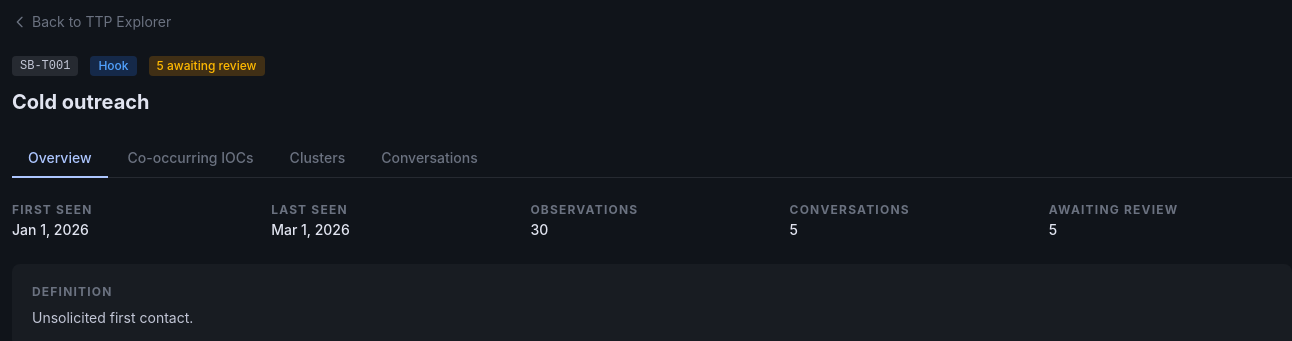
Scenario: TtpDetail — coverage gaps › clusters tab surfaces a failure note when the endpoint errors
Expected: the heading "Cold outreach" is shown, [12, 90, 150, 114]
Click the button with test id "ttp-detail-tab-clusters".
click(317, 159)  # box [274, 140, 361, 178]
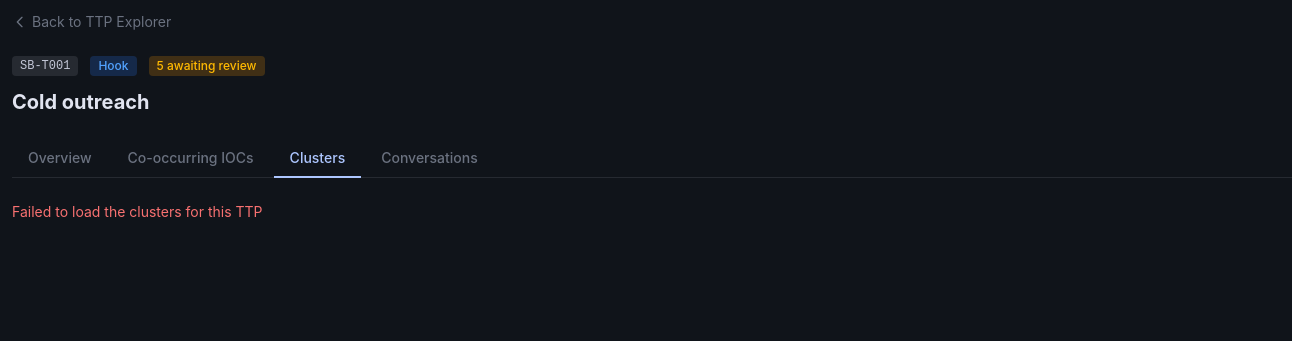
Expected: the text "Failed to load the clusters for this TTP" is shown, [12, 203, 262, 220]
